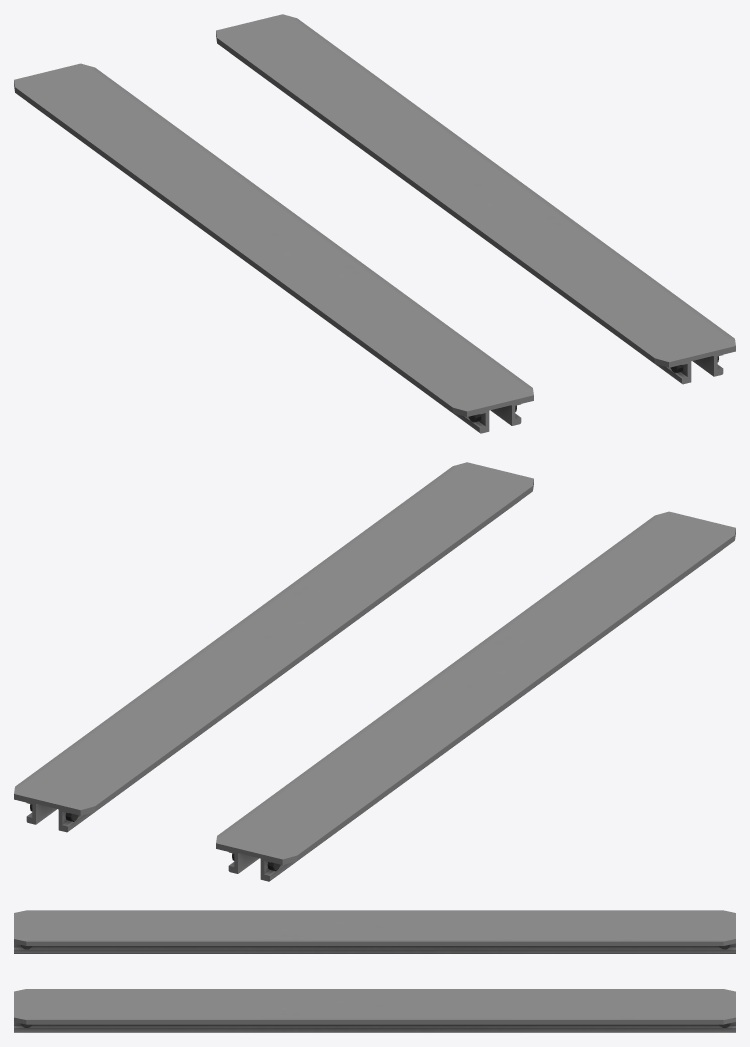
File: SND_duiduoji_huocha.glb
3 renders of one model, top to bottom at view 1: azimuth 30°, elevation 25°; view 2: azimuth 150°, elevation 25°; view 3: azimuth 270°, elevation 25°, orthographic. The views are drawn at different scales.
Parts seen in each view (by area): view 1: Asset3DLoader.sceneRoot; view 2: Asset3DLoader.sceneRoot; view 3: Asset3DLoader.sceneRoot.
Part boxes in pixels (bbox=[...]): Asset3DLoader.sceneRoot: bbox=[14, 14, 735, 433]; Asset3DLoader.sceneRoot: bbox=[14, 462, 735, 881]; Asset3DLoader.sceneRoot: bbox=[14, 910, 735, 1032].
Size of the model in its own units: 470 by 40.64 by 1307.
Materials: 1 (1 with a texture image).
